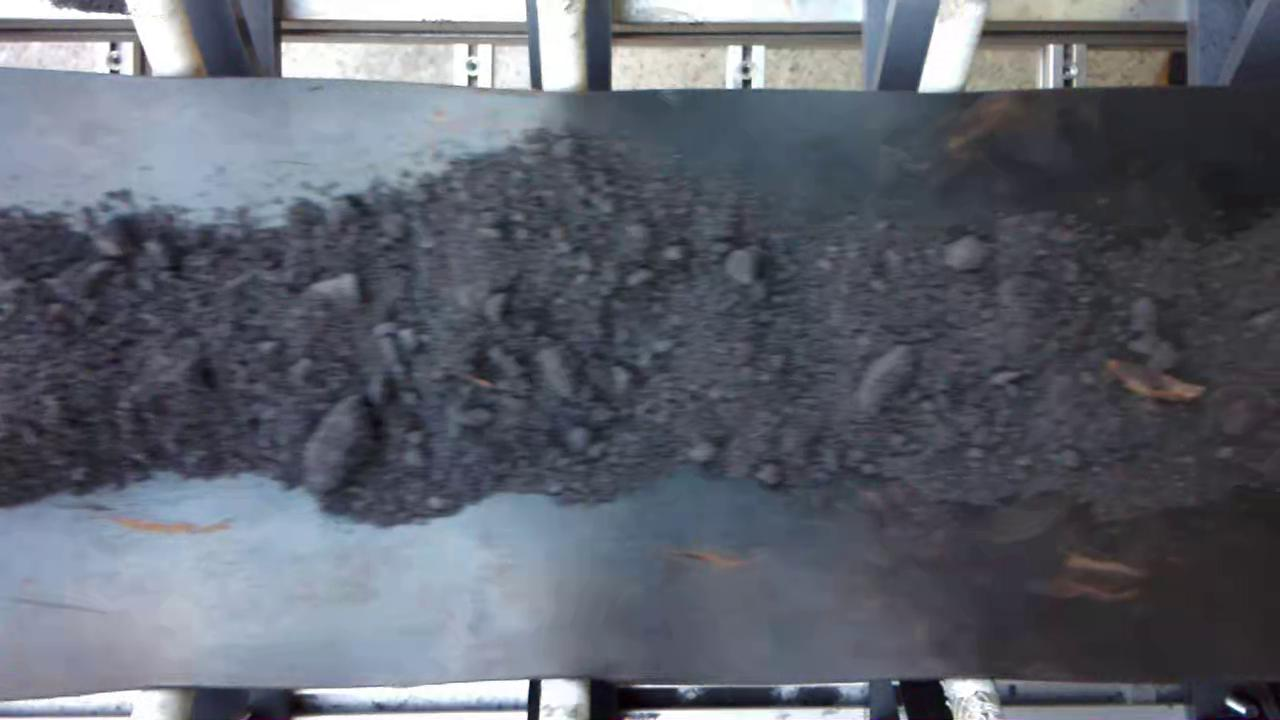conveyor: (13, 110, 1271, 656)
